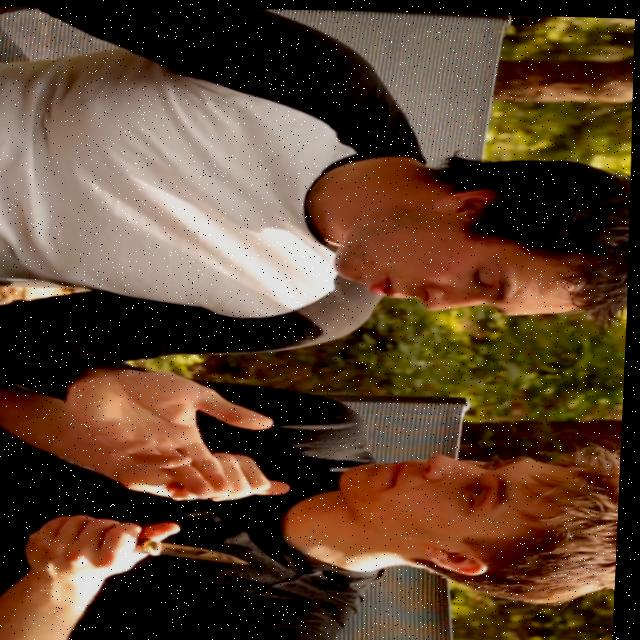knife: (137, 526, 267, 570)
